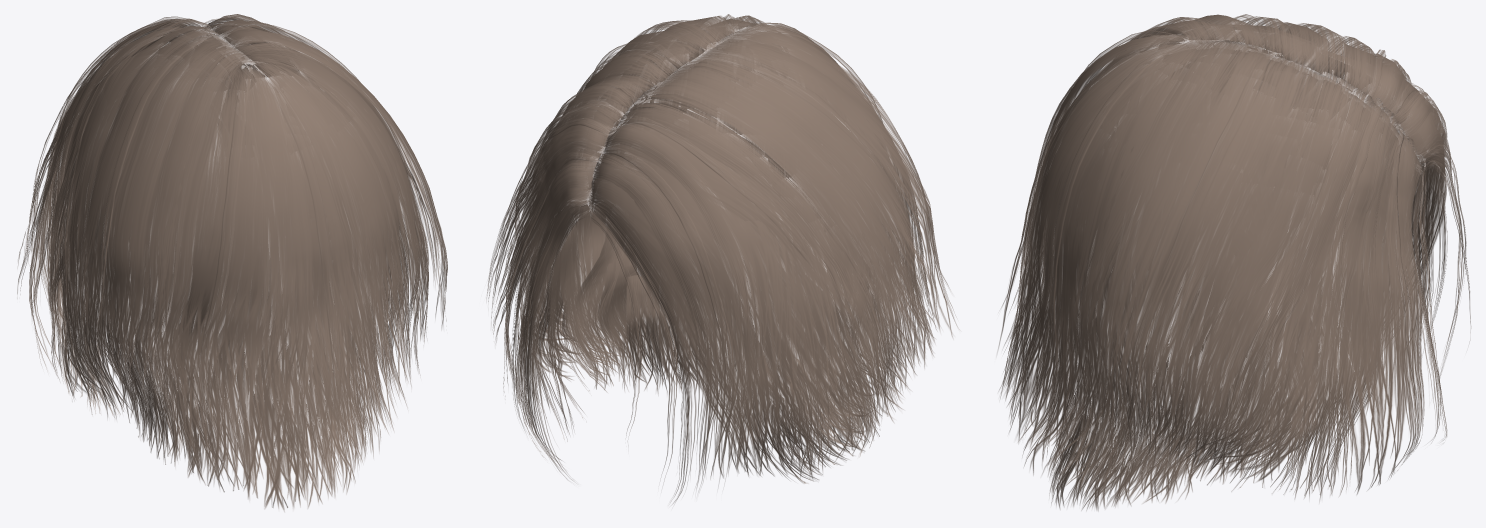
Rendered from beautiful_hair_4.glb.
The picture shows the model from 3 angles, left to right: view 1: azimuth 30°, elevation 25°; view 2: azimuth 150°, elevation 25°; view 3: azimuth 270°, elevation 25°; orthographic projection. The views are drawn at different scales.
Parts seen in each view (by area): view 1: Object_2; view 2: Object_2; view 3: Object_2.
Part boxes in pixels (x1,y1,x2,y2): Object_2: (17, 14, 447, 511); Object_2: (486, 14, 959, 503); Object_2: (997, 14, 1471, 510).
Bounding box in the file's own units: 0.4627 × 0.5108 × 0.4795.
1 material, 1 textured.
